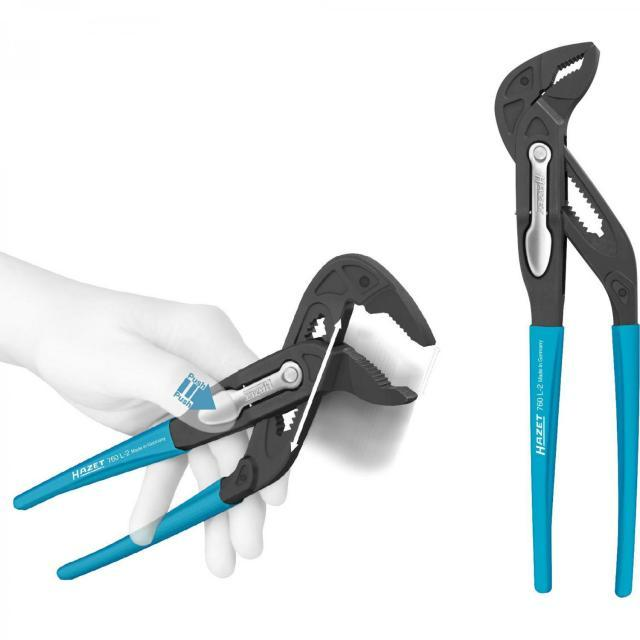pliers: (3, 242, 440, 594), (490, 32, 640, 603)
